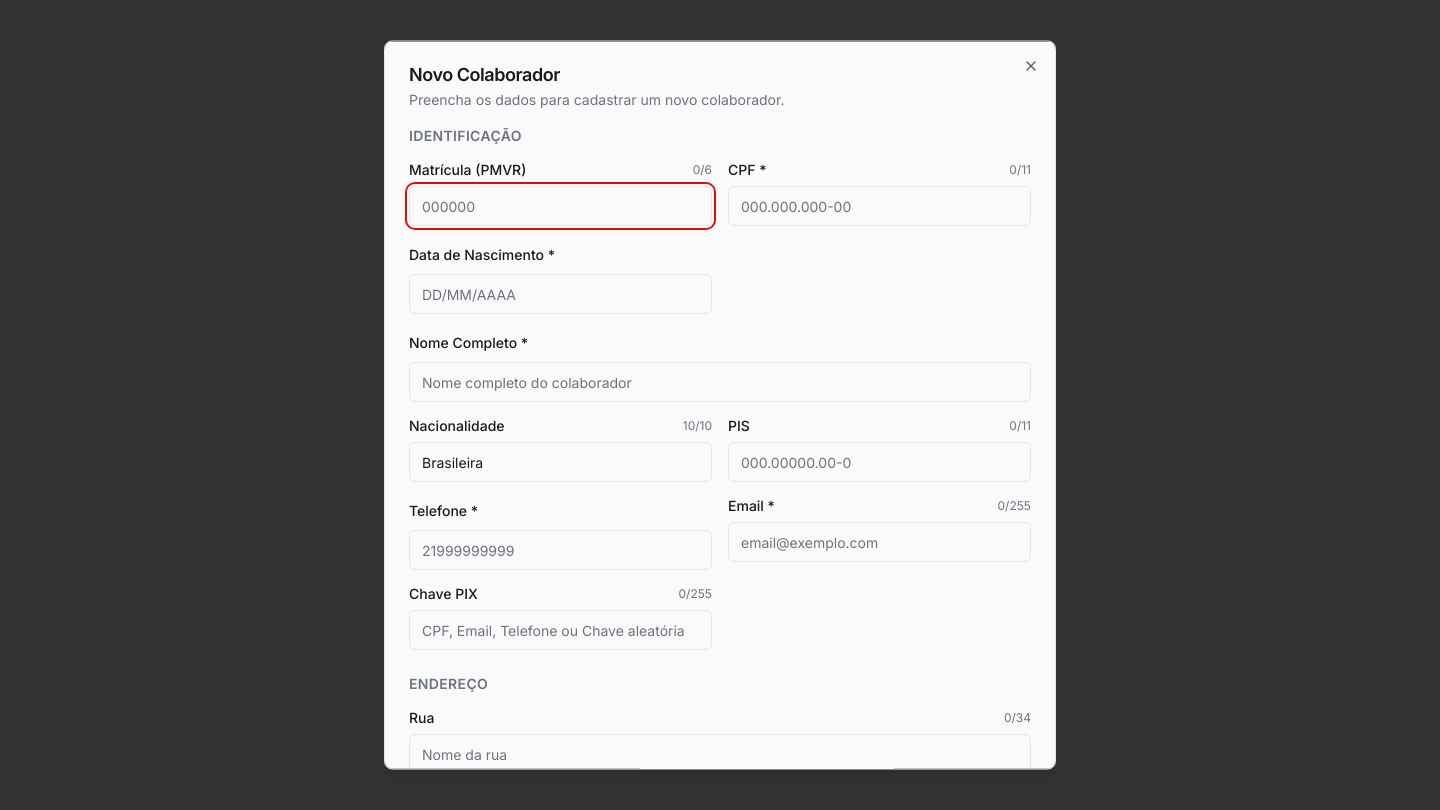
Scenario: ColaboradorDialog (interação) › validação › recusa CPF com dígito verificador errado
Type "Beltrana Silva" into the field labelled "Nome Completo *". click: (720, 382)
box: left=409, top=362, right=1031, bottom=402
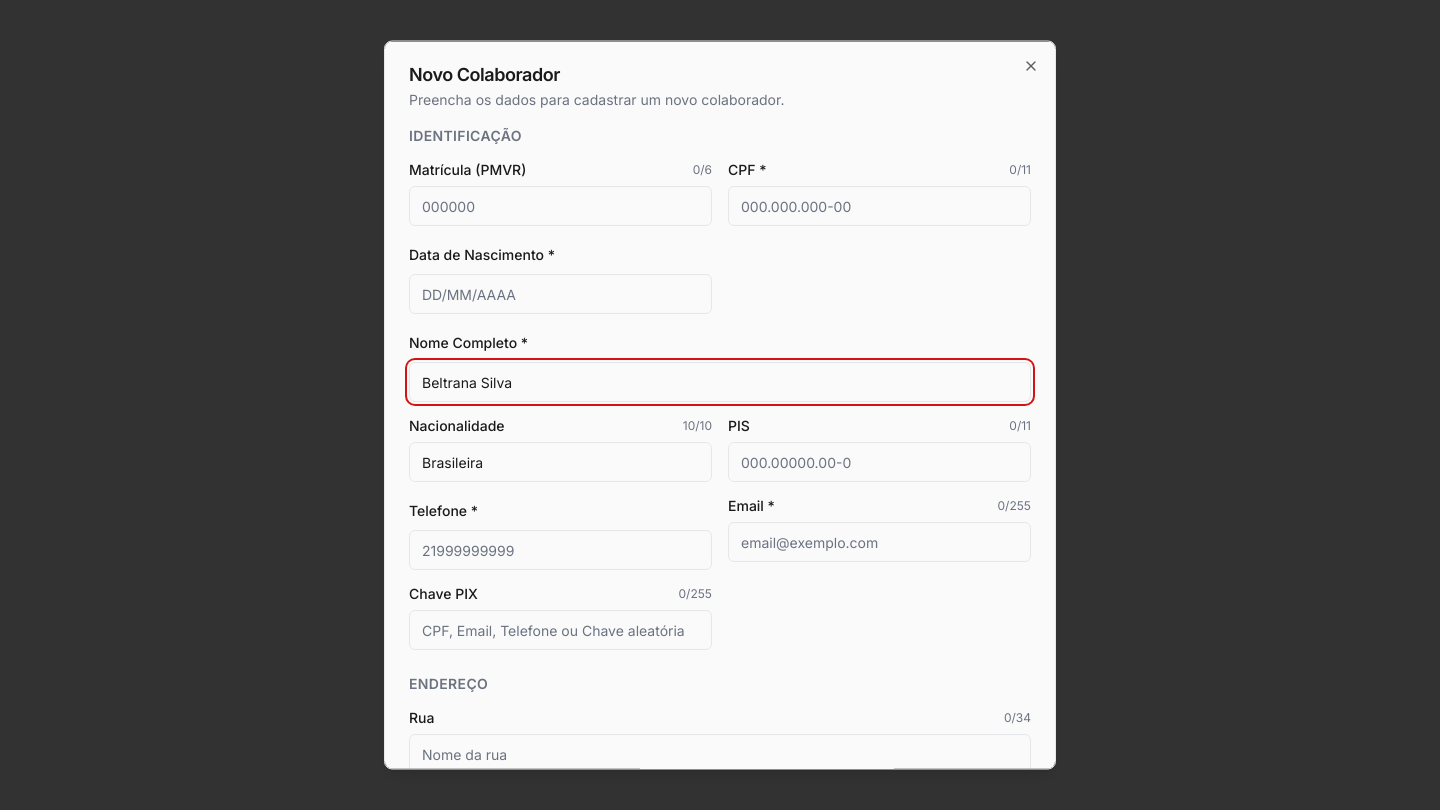
Type "52998224726" into the field labelled "CPF *". click: (880, 206)
box: left=728, top=186, right=1031, bottom=226
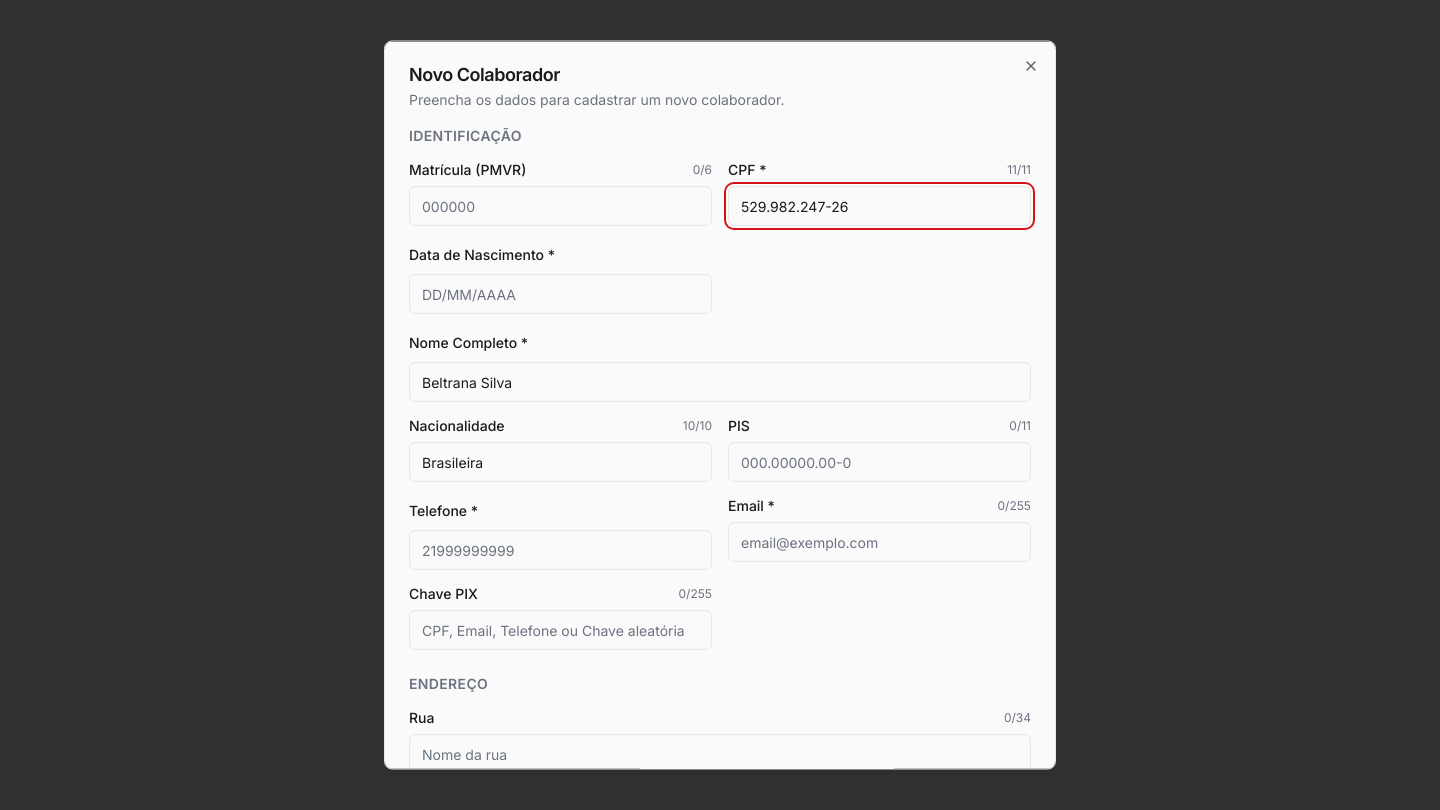
Type "20051990" into the field labelled "Data de Nascimento *". click: (560, 294)
box: left=409, top=274, right=712, bottom=314
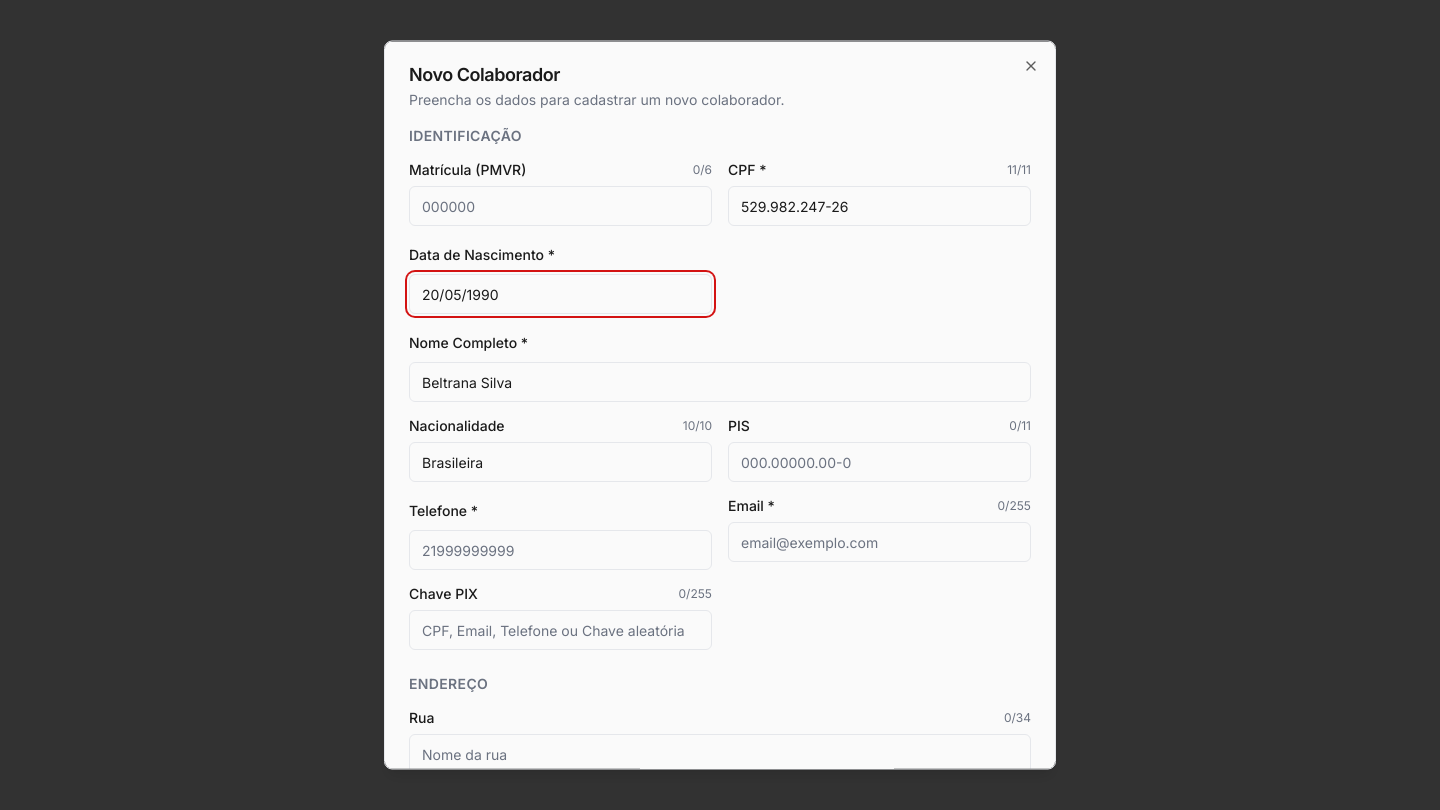
Type "24999998888" into the field labelled "Telefone *". click: (560, 550)
box: left=409, top=530, right=712, bottom=570
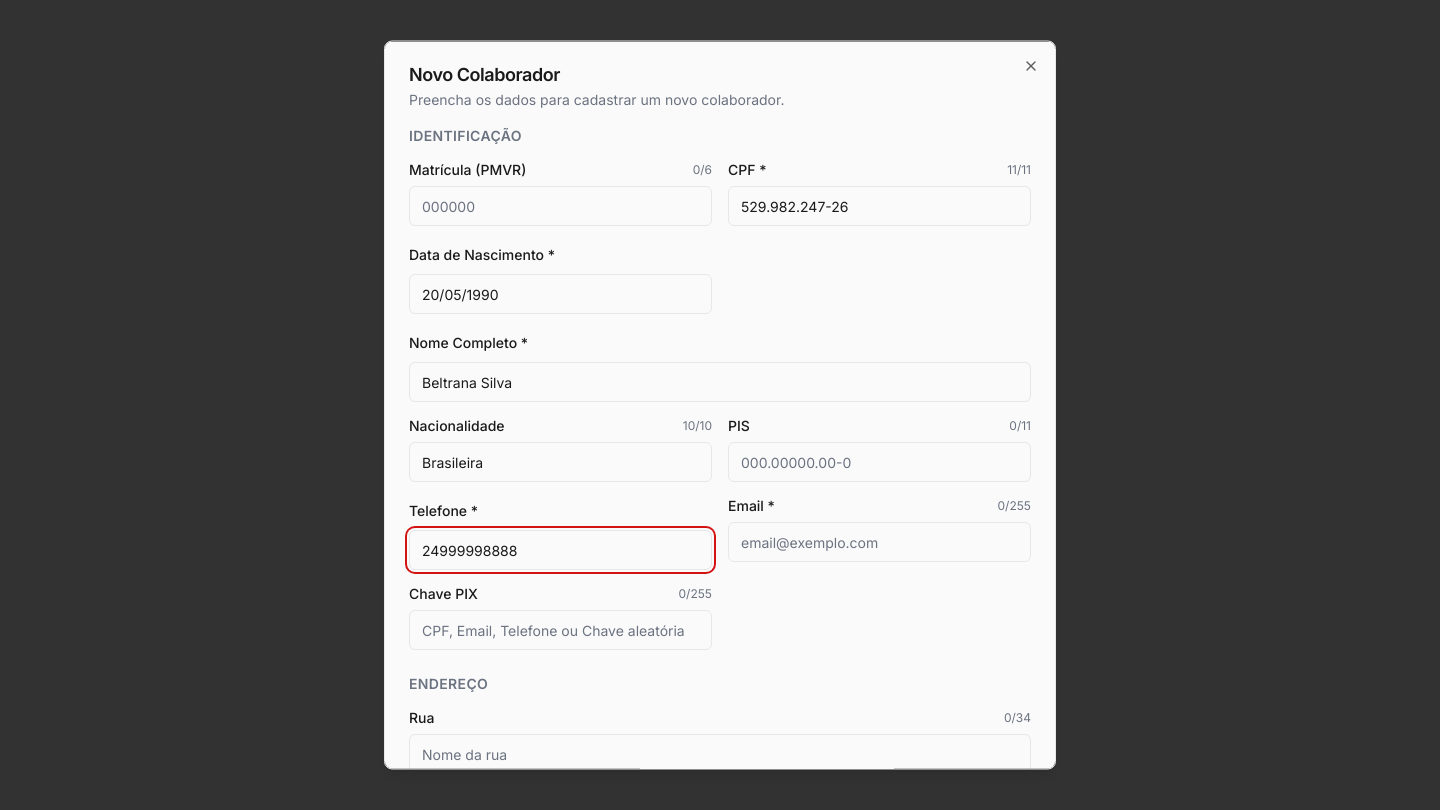
Type "nova@exemplo.com" into the field labelled "Email *". click: (880, 542)
box: left=728, top=522, right=1031, bottom=562
(page scrolled)
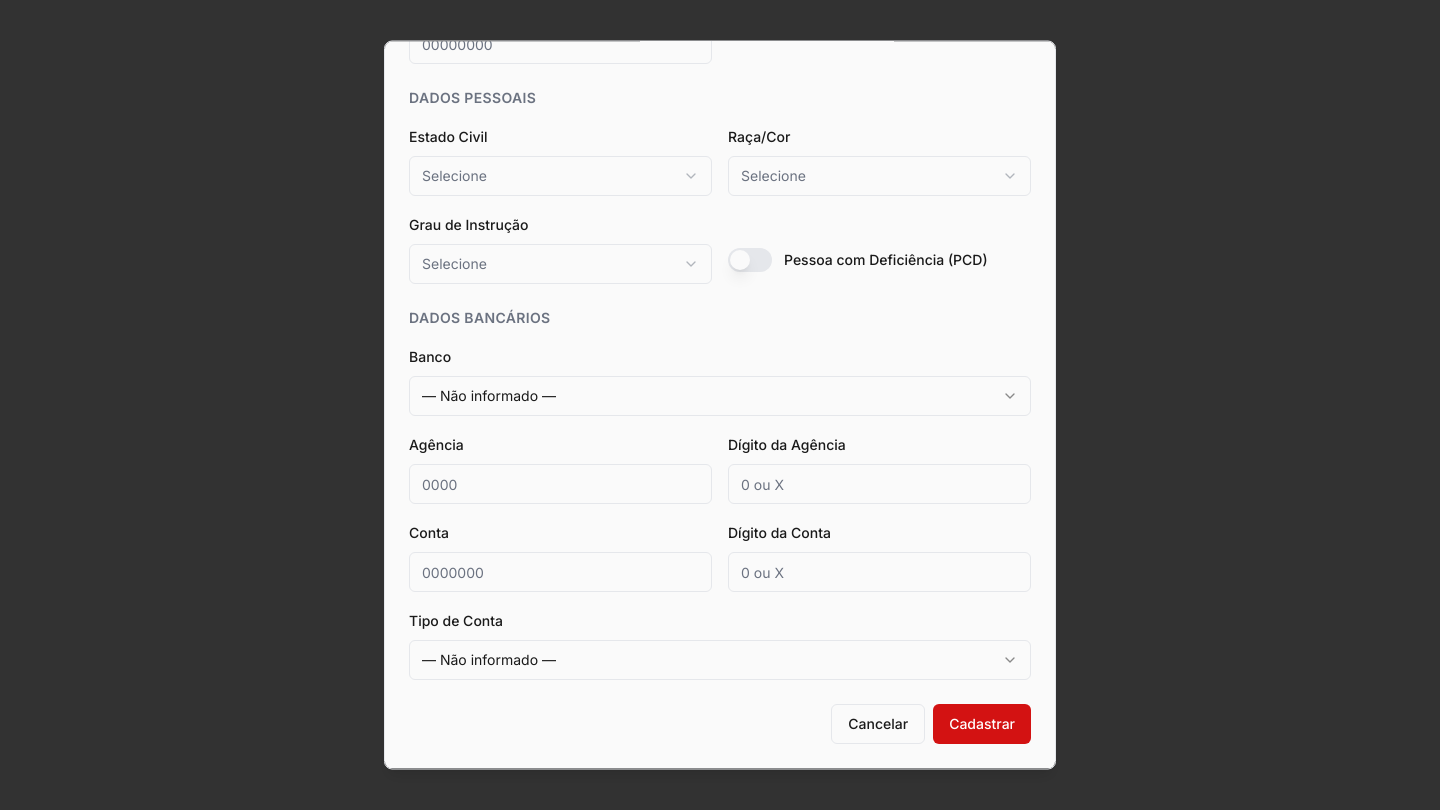
Click the button "Cadastrar". click: (982, 724)
box: left=933, top=704, right=1031, bottom=744
(page scrolled)
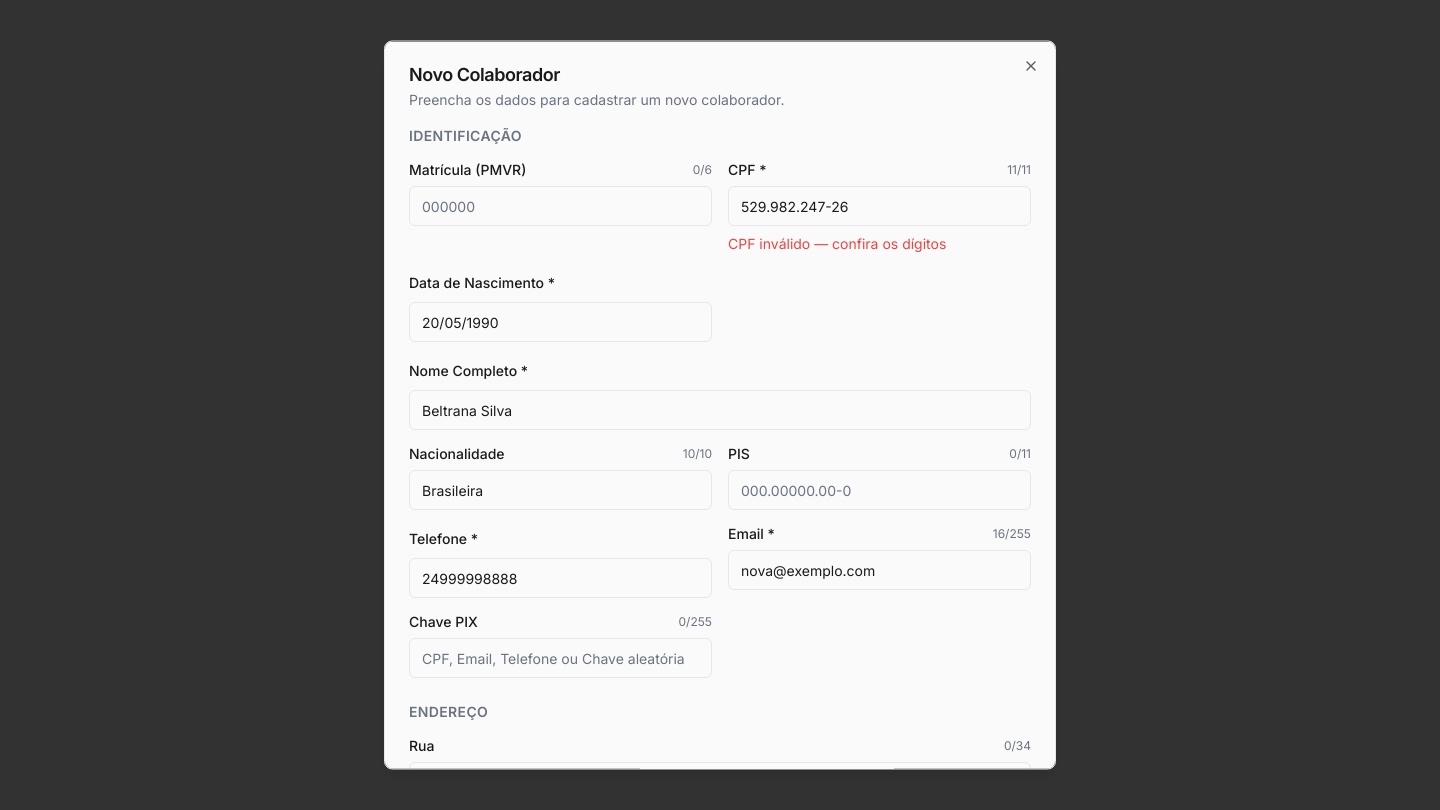
expect the text "CPF inválido — confira os dígitos" is shown: met, box left=728, top=234, right=946, bottom=252
